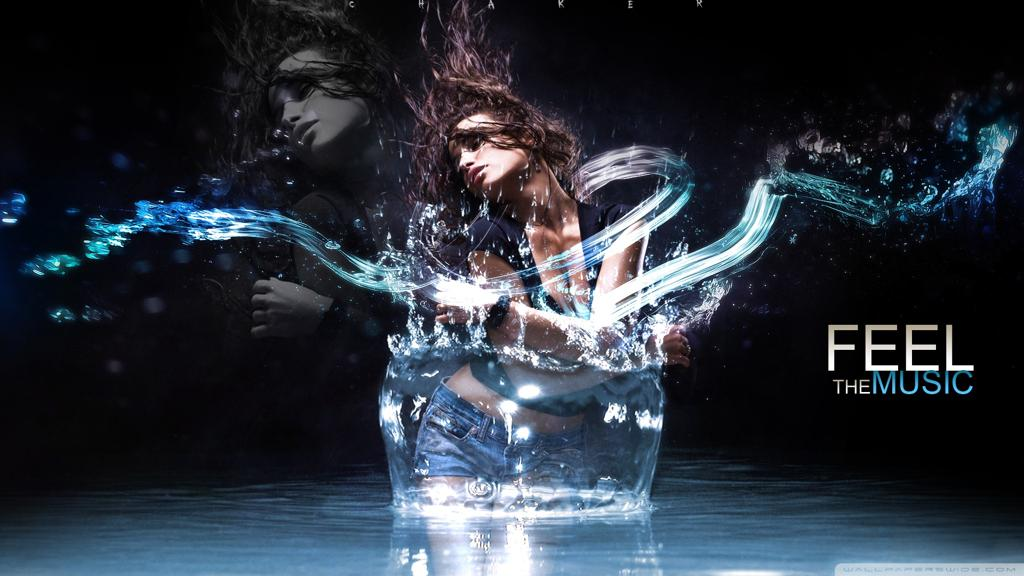face: (264, 54, 360, 156), (450, 114, 518, 184)
